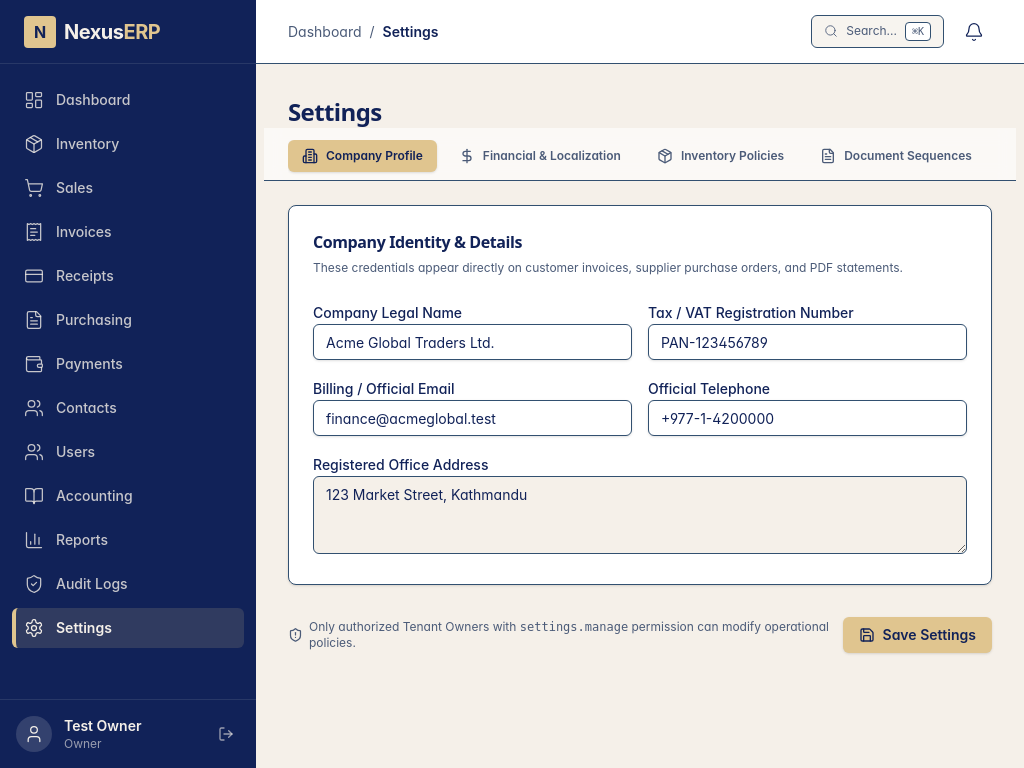
SettingsIndex Component › displays error message when updateSettings fails
This screenshot has width=1024, height=768.
Click the button "Save Settings" at (917, 635), box left=842, top=617, right=992, bottom=653
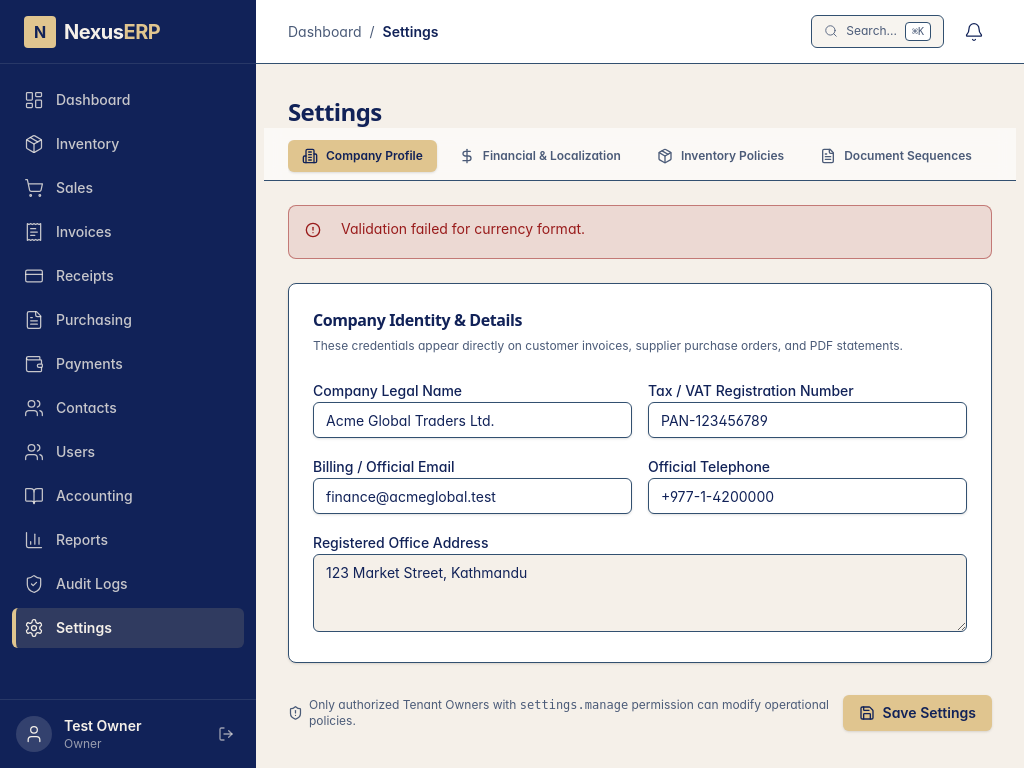
Expected: the text "Validation failed for currency format." is shown, left=341, top=220, right=585, bottom=237
